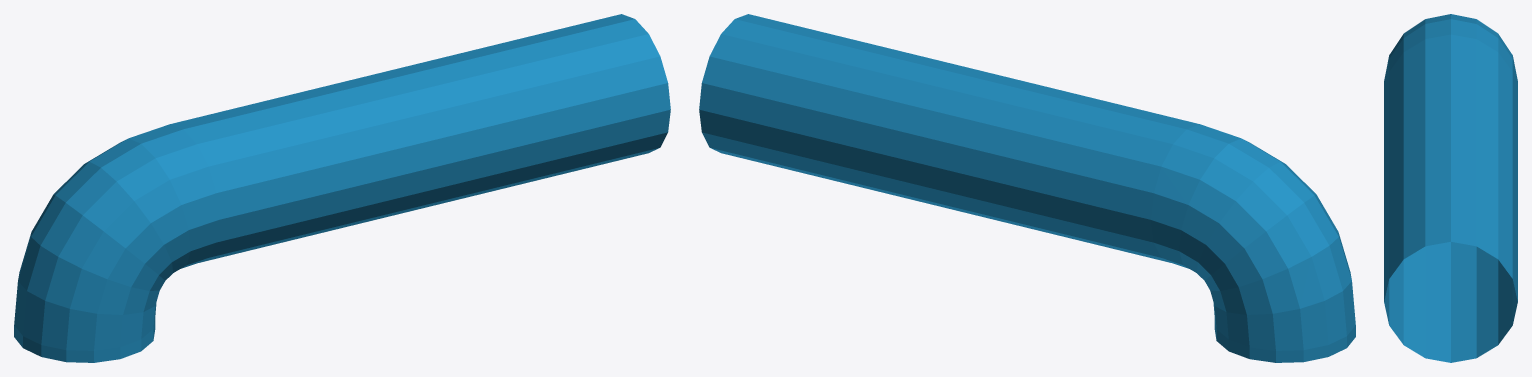
The model's file is cell_80.obj.
3 views of the same model, side by side, from view 1: azimuth 30°, elevation 25°; view 2: azimuth 150°, elevation 25°; view 3: azimuth 270°, elevation 25° (orthographic). The views are drawn at different scales.
Size of the model in its own units: 0.278 by 0.078 by 0.056.
